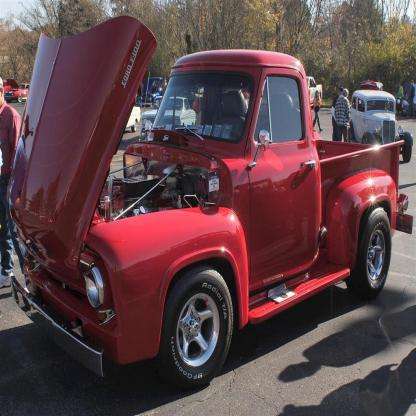Car: (0, 15, 414, 387)
Truck: (9, 15, 413, 387)
